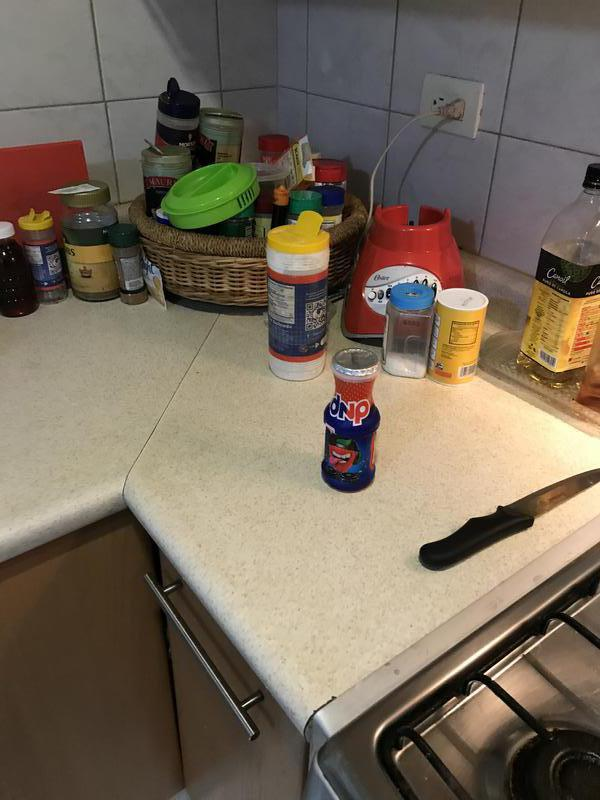danup: (321, 350, 380, 494)
